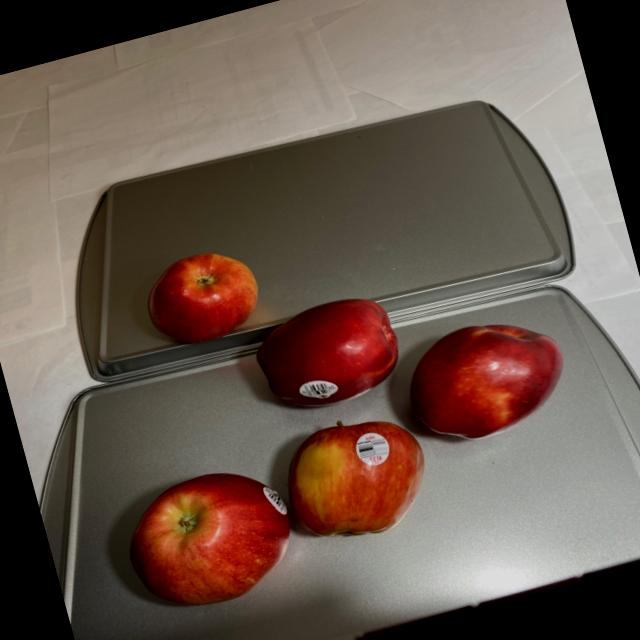apple: (75, 246, 602, 629), (130, 240, 268, 358)
